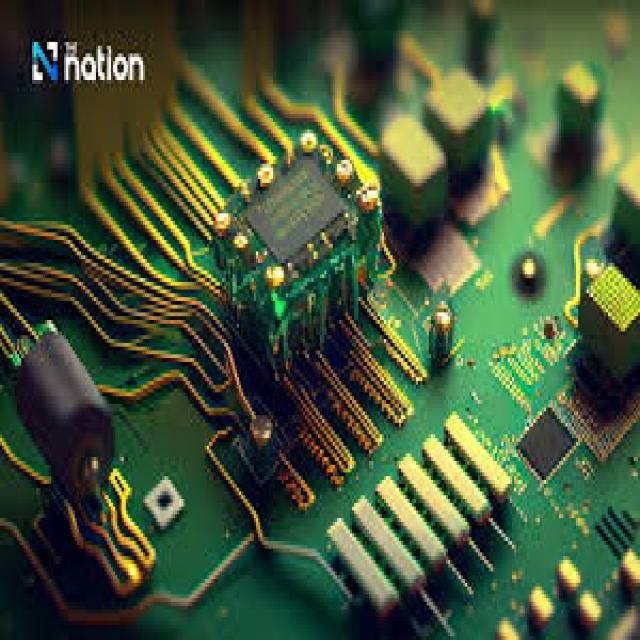pcb: (0, 0, 636, 636), (211, 126, 376, 373), (13, 316, 115, 511), (576, 255, 638, 385), (378, 110, 448, 225), (422, 61, 488, 175), (514, 400, 576, 484), (141, 472, 183, 530)
